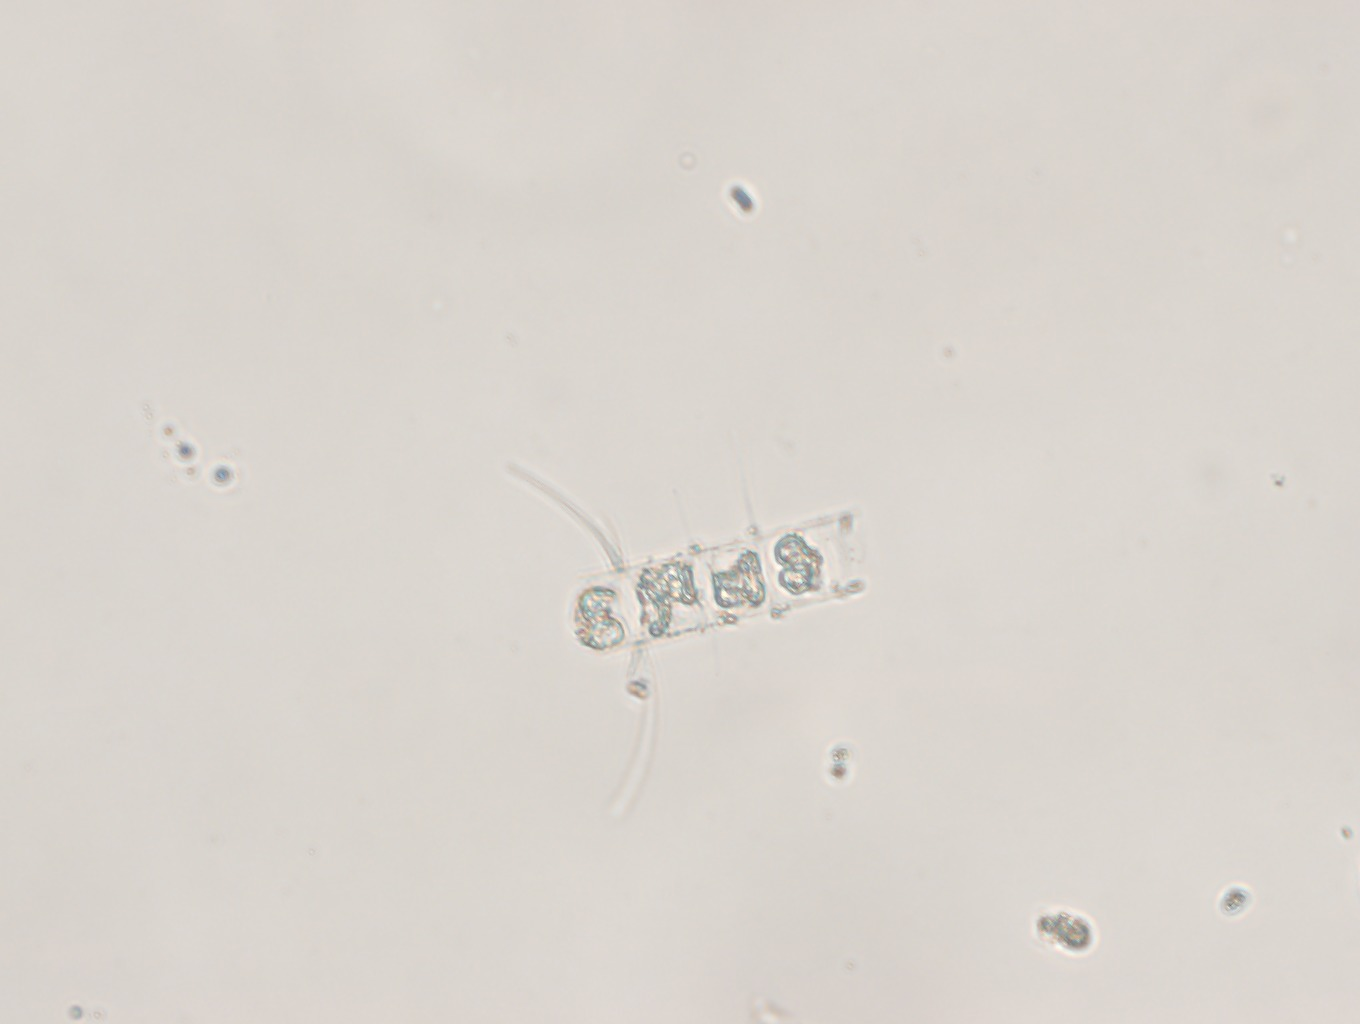chaetoceros: (479, 430, 886, 821)
